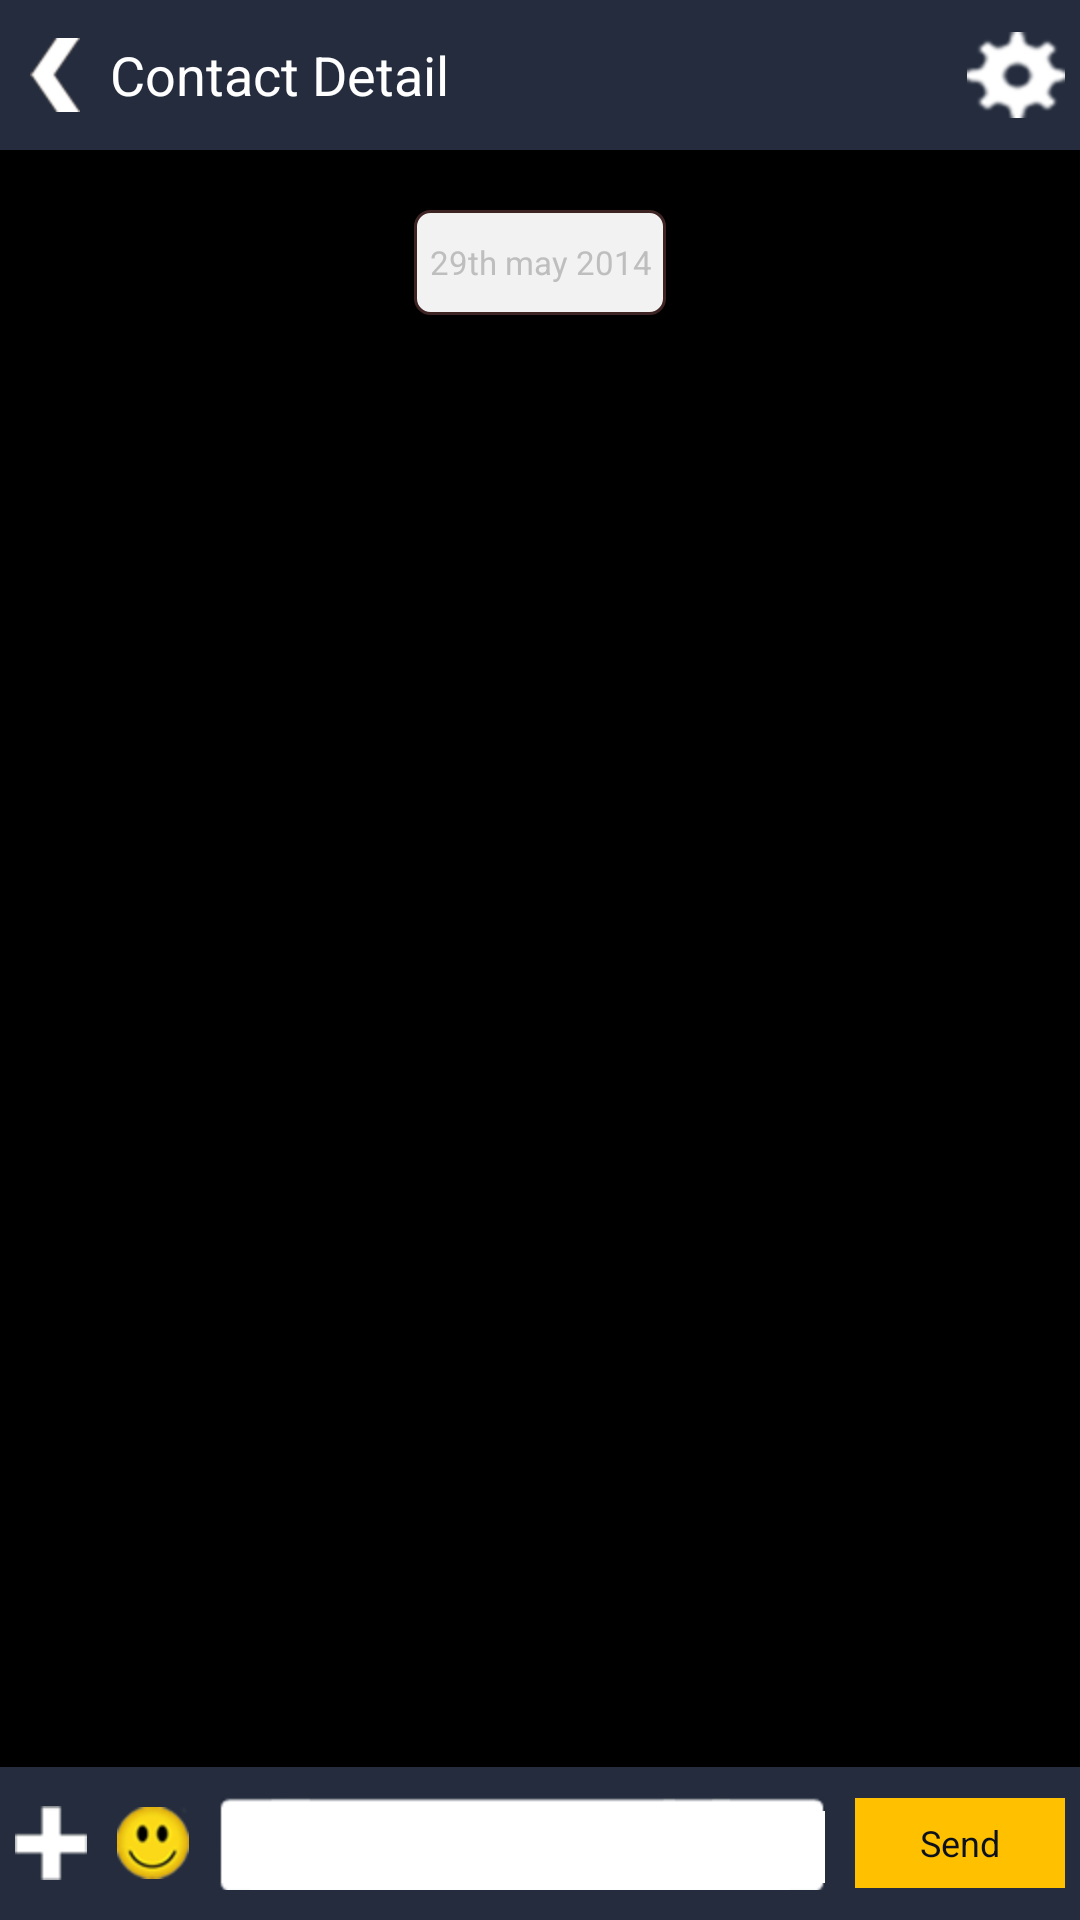

Locate icon controls on the screen. Image size 1080w x 1920h, boxes as (x1, y1, x2, y2).
add attachement: (15, 1806, 87, 1880)
arrow: (30, 38, 80, 112)
emicon: (117, 1807, 189, 1879)
setting: (967, 32, 1065, 118)
